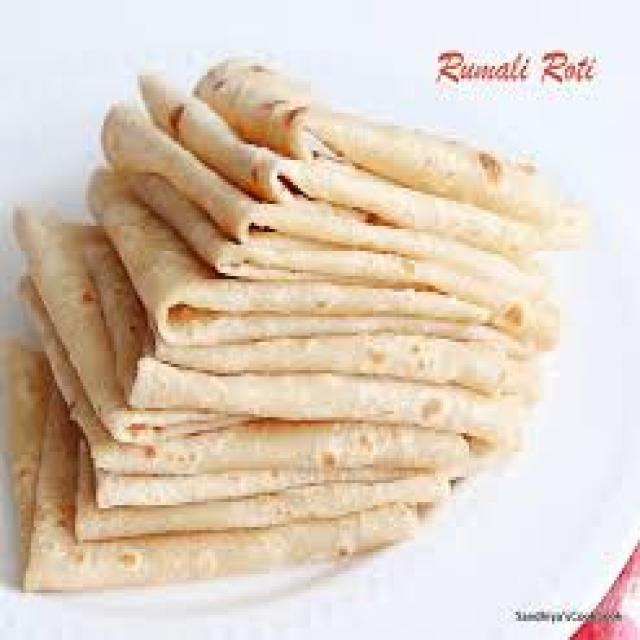ROTI: (13, 207, 469, 477), (23, 420, 415, 587), (104, 204, 479, 342), (78, 483, 435, 536)
